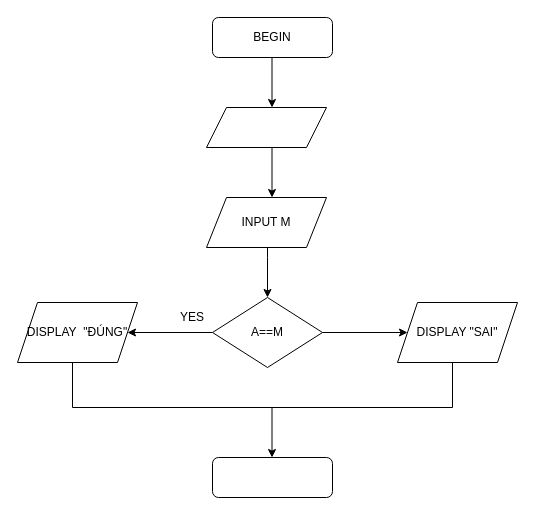
Image size: 535x515. Some labels were removed from this diagram. The box of each missing label's shape, as (x1, y1, x2, y2) in pixels:
END: (212, 456, 332, 498)
INPUT A=[0-9]: (206, 106, 326, 148)
